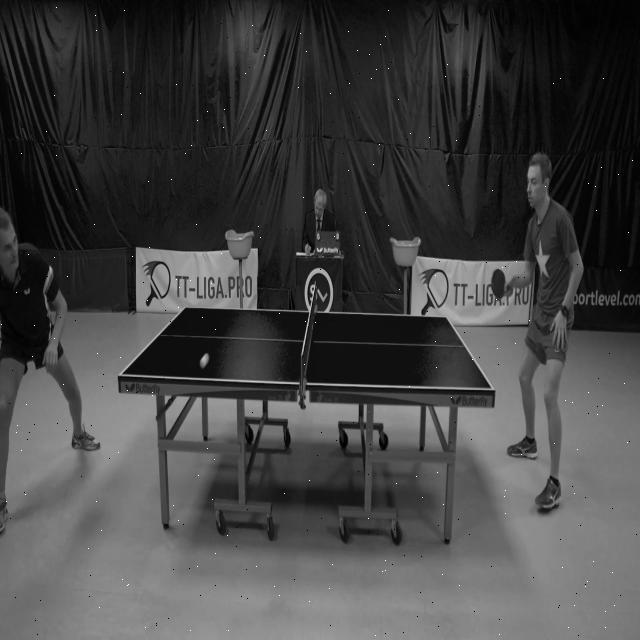ping-pong-ball: (200, 348, 210, 371)
